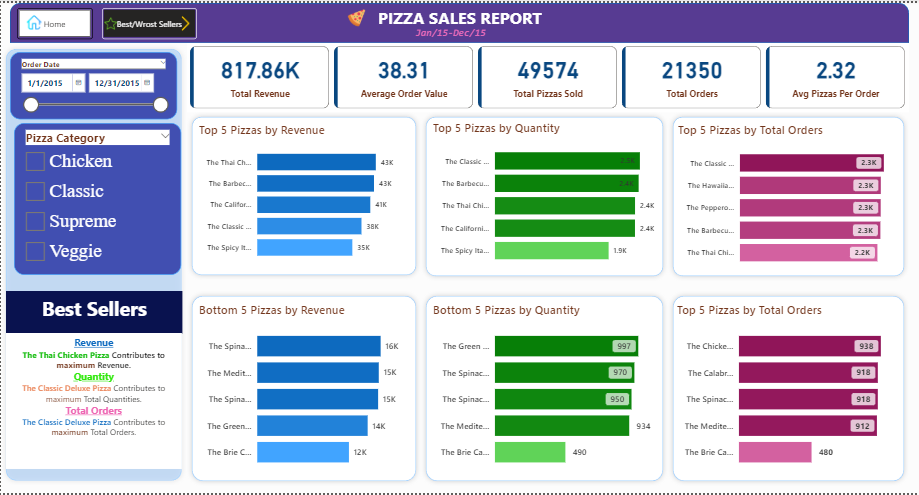

What the dashboard file says about the page in this screenshot:
{"tool":"powerbi","page":{"name":"Best/Wrost Sellers","canvas":[1500,800],"ordinal":1},"visuals":[{"type":"cardVisual","fields":{"Data":["public pizzasales.Total Revenue","public pizzasales.Average Order Value","public pizzasales.Total Pizzas Sold","public pizzasales.Total Orders","public pizzasales.Avg Pizzas Per Order"]},"box":[303.7,65.3,1178.8,112.7],"z":0},{"type":"shape","box":[14.7,0,1467.8,65.3],"z":1000},{"type":"textbox","box":[605.7,0,287.3,47.3],"z":2000},{"type":"textbox","box":[644.9,34.3,178,32.7],"z":3000},{"type":"image","box":[542,4.9,76.7,39.2],"z":4000},{"type":"shape","box":[303.7,178,382,274.3],"z":5000},{"type":"shape","box":[0,67.2,303,720.9],"z":6000},{"type":"slicer","fields":{"Values":["public pizzasales.order_date"]},"box":[14.9,80.6,273.1,110.4],"z":7000},{"type":"shape","box":[685.7,178,403.3,275.9],"z":8000},{"type":"shape","box":[1089,178,393.5,275.9],"z":9000},{"type":"shape","box":[303.7,470.2,382,318.4],"z":10000},{"type":"shape","box":[685.7,470.2,403.3,318.4],"z":11000},{"type":"shape","box":[1089,470.2,393.5,318.4],"z":12000},{"type":"barChart","title":"Top 5 Pizzas by Revenue","fields":{"Category":["public pizzasales.pizza_name"],"Y":["public pizzasales.Total Revenue"]},"box":[318.9,194.9,348.4,238.2],"z":13000},{"type":"barChart","title":"Bottom 5 Pizzas by Revenue","fields":{"Category":["public pizzasales.pizza_name"],"Y":["public pizzasales.Total Revenue"]},"box":[318.9,488.2,348.4,285.4],"z":14000},{"type":"barChart","title":"Top 5 Pizzas by Quantity","fields":{"Category":["public pizzasales.pizza_name"],"Y":["public pizzasales.Total Pizzas Sold"]},"box":[700.8,190.9,372,248],"z":15000},{"type":"barChart","title":"Bottom 5 Pizzas by Quantity","fields":{"Category":["public pizzasales.pizza_name"],"Y":["public pizzasales.Total Pizzas Sold"]},"box":[700.8,488.2,372,285.4],"z":16000},{"type":"barChart","title":"Top 5 Pizzas by Total Orders","fields":{"Category":["public pizzasales.pizza_name"],"Y":["public pizzasales.Total Orders"]},"box":[1100.4,194.3,372.2,248.2],"z":17000},{"type":"barChart","title":"Top 5 Pizzas by Total Orders","fields":{"Category":["public pizzasales.pizza_name"],"Y":["public pizzasales.Total Orders"]},"box":[1098.4,488.2,372,285.4],"z":18000},{"type":"textbox","box":[7.5,470.1,288.1,68.7],"z":19000},{"type":"textbox","box":[7.5,538.8,286.6,222.4],"z":20000},{"type":"slicer","fields":{"Values":["public pizzasales.pizza_category"]},"box":[20.9,195.5,273.1,247.8],"z":21000},{"type":"pageNavigator","box":[164.2,7.5,155.2,50.7],"z":21001},{"type":"pageNavigator","box":[26.9,7.5,123.9,50.7],"z":21002},{"type":"image","box":[270.1,16.4,64.2,34.3],"z":21003},{"type":"image","box":[26.9,14.9,56.7,34.3],"z":21004},{"type":"image","box":[161.2,17.9,34.3,31.3],"z":21005}]}

Visuals, with their boxes in screenshot pixels (x1, y1, x2, y2), scaled from the page's 1500x800 canvas onto the 919x495 screenshot:
cardVisual - public pizzasales.Total Revenue x public pizzasales.Average Order Value: (left=186, top=40, right=908, bottom=110)
shape: (left=9, top=0, right=908, bottom=40)
textbox: (left=371, top=0, right=547, bottom=29)
textbox: (left=395, top=21, right=504, bottom=41)
image: (left=332, top=3, right=379, bottom=27)
shape: (left=186, top=110, right=420, bottom=280)
shape: (left=0, top=42, right=186, bottom=488)
slicer - public pizzasales.order_date: (left=9, top=50, right=176, bottom=118)
shape: (left=420, top=110, right=667, bottom=281)
shape: (left=667, top=110, right=908, bottom=281)
shape: (left=186, top=291, right=420, bottom=488)
shape: (left=420, top=291, right=667, bottom=488)
shape: (left=667, top=291, right=908, bottom=488)
"Top 5 Pizzas by Revenue" barChart: (left=195, top=121, right=409, bottom=268)
"Bottom 5 Pizzas by Revenue" barChart: (left=195, top=302, right=409, bottom=479)
"Top 5 Pizzas by Quantity" barChart: (left=429, top=118, right=657, bottom=272)
"Bottom 5 Pizzas by Quantity" barChart: (left=429, top=302, right=657, bottom=479)
"Top 5 Pizzas by Total Orders" barChart: (left=674, top=120, right=902, bottom=274)
"Top 5 Pizzas by Total Orders" barChart: (left=673, top=302, right=901, bottom=479)
textbox: (left=5, top=291, right=181, bottom=333)
textbox: (left=5, top=333, right=180, bottom=471)
slicer - public pizzasales.pizza_category: (left=13, top=121, right=180, bottom=274)
pageNavigator: (left=101, top=5, right=196, bottom=36)
pageNavigator: (left=16, top=5, right=92, bottom=36)
image: (left=165, top=10, right=205, bottom=31)
image: (left=16, top=9, right=51, bottom=30)
image: (left=99, top=11, right=120, bottom=30)
